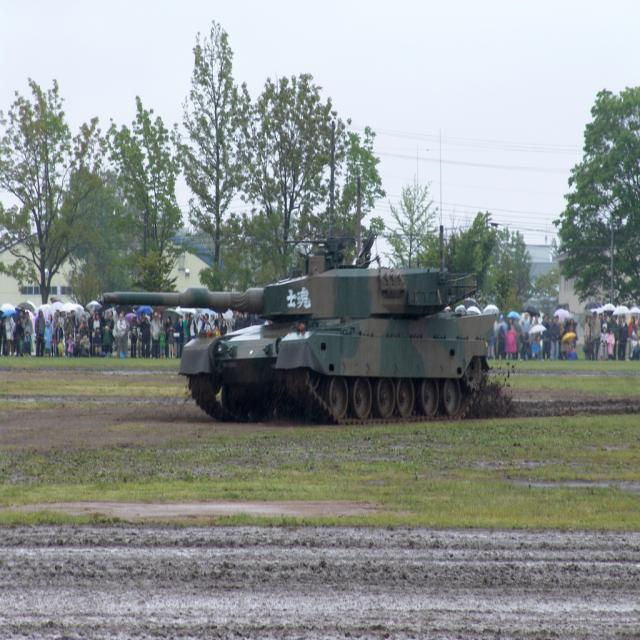tank: (98, 234, 499, 424)
